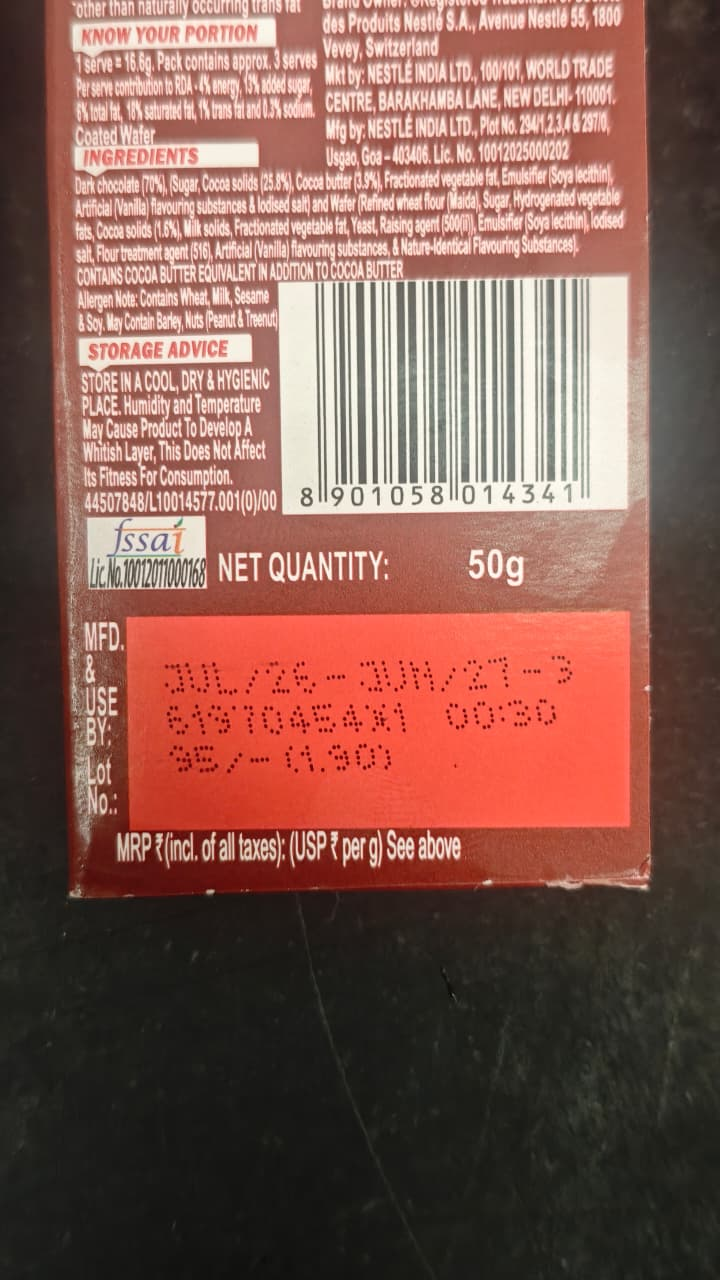EXP_Date: (350, 644, 577, 693)
Ingredients: (56, 158, 641, 282)
MFG_Date: (148, 660, 336, 694)
